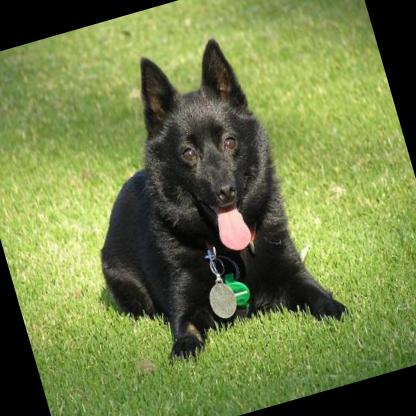schipperke: (44, 20, 354, 380)
